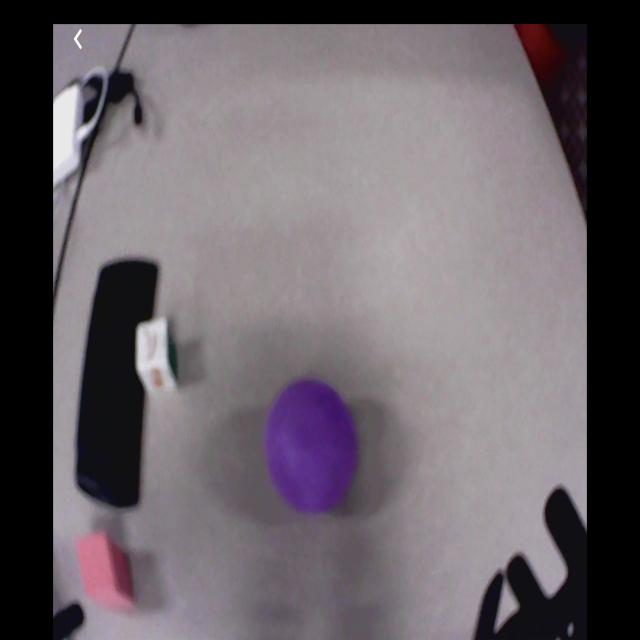ball: (266, 384, 356, 519)
